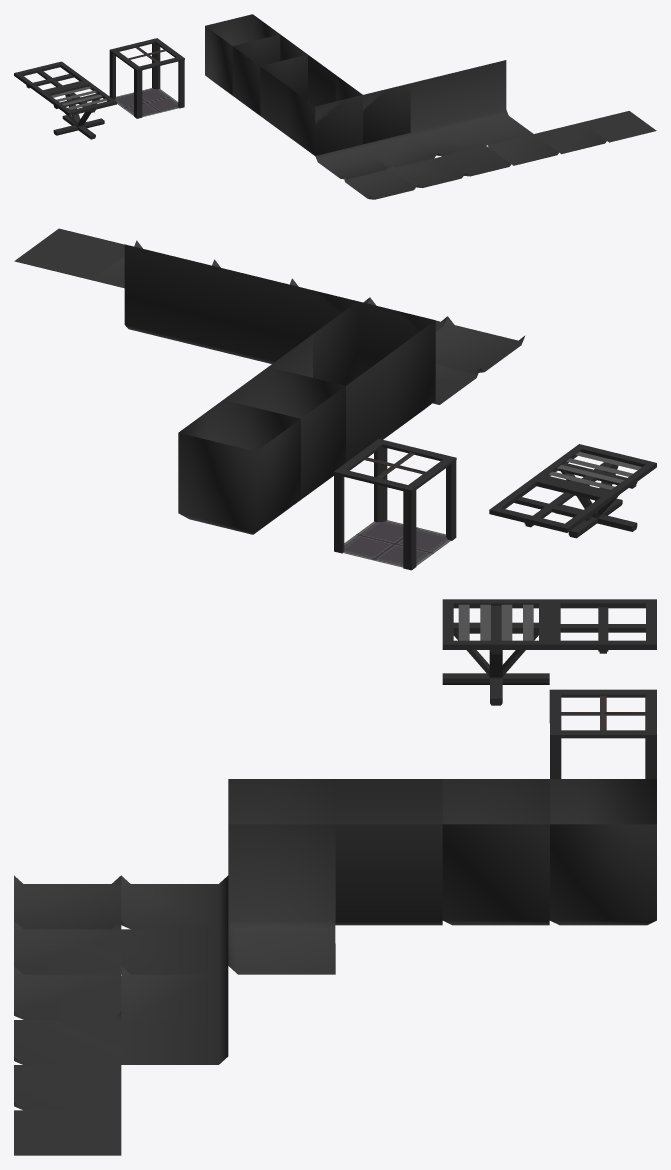
File: Plenums.fbx
The picture shows the model from 3 angles, top to bottom: view 1: azimuth 30°, elevation 25°; view 2: azimuth 150°, elevation 25°; view 3: azimuth 270°, elevation 25°; orthographic projection. The views are drawn at different scales.
Parts seen in each view (by area): view 1: PlenumCoverT4, PlenumCoverT3, PlenumCoverO, PlenumCoverL1, Plenum, PlenumCoverU, PlenumCoverL2, PlenumCoverI, Catwalk, PlenumCoverT1, PlenumCoverT2, PlenumCoverX1 (+6 smaller); view 2: PlenumCoverO, Plenum, PlenumCoverU, PlenumCoverT4, PlenumCoverT3, Catwalk, PlenumCoverI, PlenumCoverL1, PlenumCoverT1, PlenumCoverX6, PlenumCoverL2, Lattice (+3 smaller); view 3: PlenumCoverL2, PlenumCoverI, PlenumCoverU, PlenumCoverO, Catwalk, PlenumCoverX2, PlenumCoverT3, PlenumCoverT1, PlenumCoverL1, PlenumCoverX1, PlenumCoverX6, PlenumCoverX5 (+6 smaller).
Part boxes in pixels (box(x1,y1,x2,y2)): PlenumCoverT4: box(458, 60, 533, 145); PlenumCoverT3: box(410, 71, 485, 156); PlenumCoverO: box(205, 14, 280, 96); PlenumCoverL1: box(287, 86, 362, 155); Plenum: box(109, 38, 184, 118); PlenumCoverU: box(232, 34, 307, 116); PlenumCoverL2: box(335, 75, 410, 144); PlenumCoverI: box(260, 55, 335, 136); Catwalk: box(41, 81, 116, 139); PlenumCoverT1: box(315, 100, 389, 179); PlenumCoverT2: box(363, 89, 436, 167); PlenumCoverX1: box(343, 165, 416, 199); PlenumCoverO: box(178, 400, 300, 534); Plenum: box(334, 439, 456, 570); PlenumCoverU: box(223, 367, 345, 504); PlenumCoverT4: box(124, 244, 205, 347); PlenumCoverT3: box(202, 263, 280, 363); Catwalk: box(534, 444, 656, 538); PlenumCoverI: box(268, 334, 390, 462); PlenumCoverL1: box(386, 311, 435, 437); PlenumCoverT1: box(358, 301, 480, 404); PlenumCoverX6: box(14, 228, 124, 280); PlenumCoverL2: box(313, 290, 357, 385); Lattice: box(489, 477, 611, 532); PlenumCoverL2: box(228, 824, 335, 974); PlenumCoverI: box(335, 779, 442, 925); PlenumCoverU: box(442, 779, 549, 925); PlenumCoverO: box(549, 779, 656, 925); Catwalk: box(442, 599, 549, 705); PlenumCoverX2: box(14, 921, 121, 974); PlenumCoverT3: box(121, 966, 228, 1019); PlenumCoverT1: box(121, 875, 228, 929); PlenumCoverL1: box(228, 779, 335, 924); PlenumCoverX1: box(14, 875, 121, 929); PlenumCoverX6: box(14, 1110, 121, 1155); PlenumCoverX5: box(14, 1065, 121, 1110).
Size of the model in its own units: 10 by 1.08 by 6.
